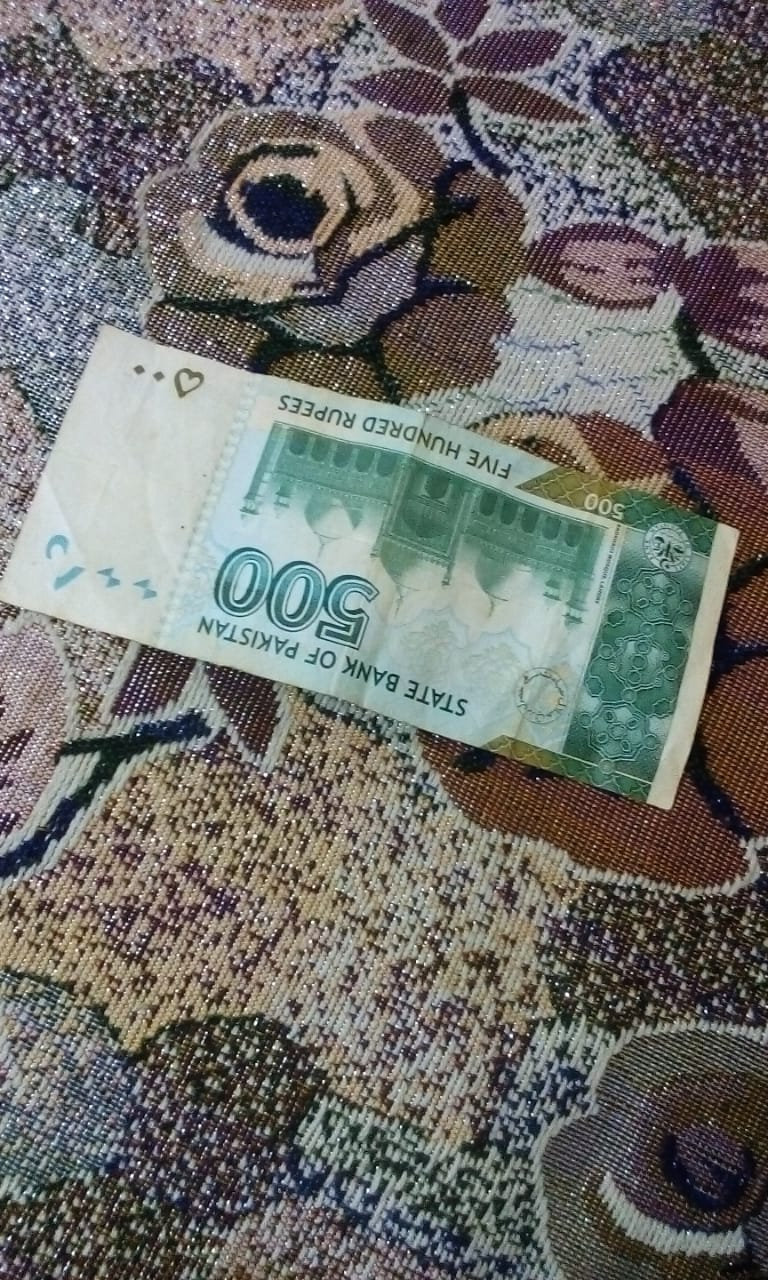500 rupee: (16, 316, 738, 839)
